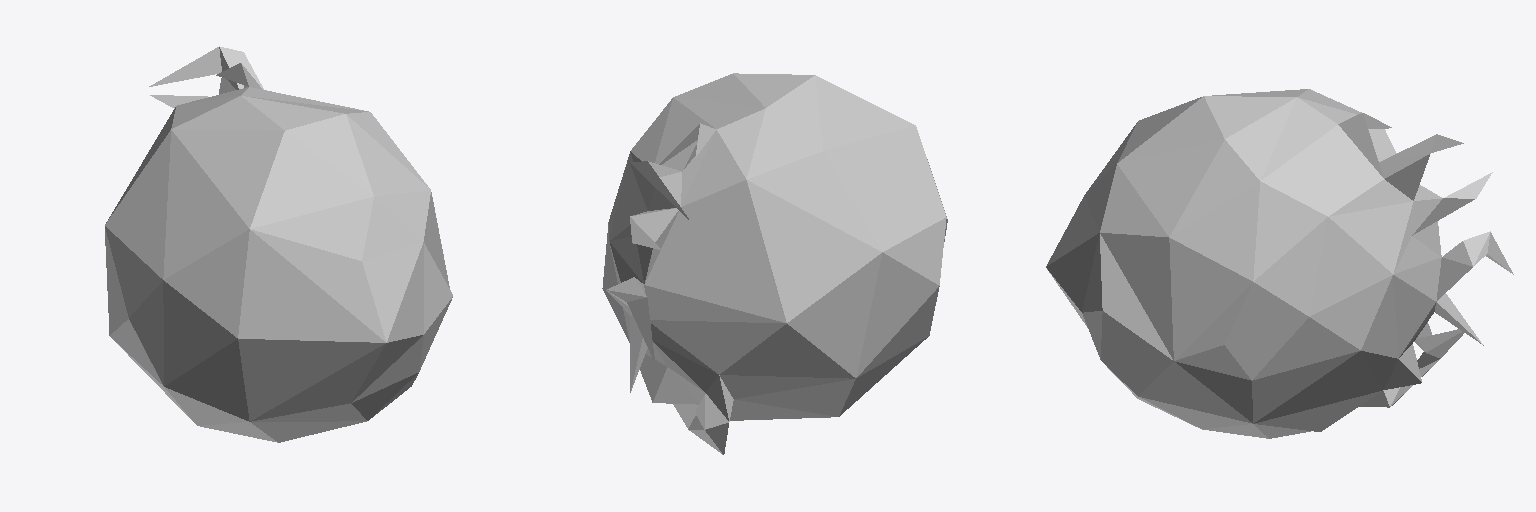
3 views of the same model, side by side, from view 1: azimuth 30°, elevation 25°; view 2: azimuth 150°, elevation 25°; view 3: azimuth 270°, elevation 25° (orthographic).
Parts seen in each view (by area): view 1: ai_model; view 2: ai_model; view 3: ai_model.
Part boxes in pixels (left/top/right/bottom): ai_model: left=105, top=46, right=452, bottom=442; ai_model: left=602, top=73, right=947, bottom=454; ai_model: left=1046, top=89, right=1513, bottom=438.
Size of the model in its own units: 0.5624 by 0.5632 by 0.7636.